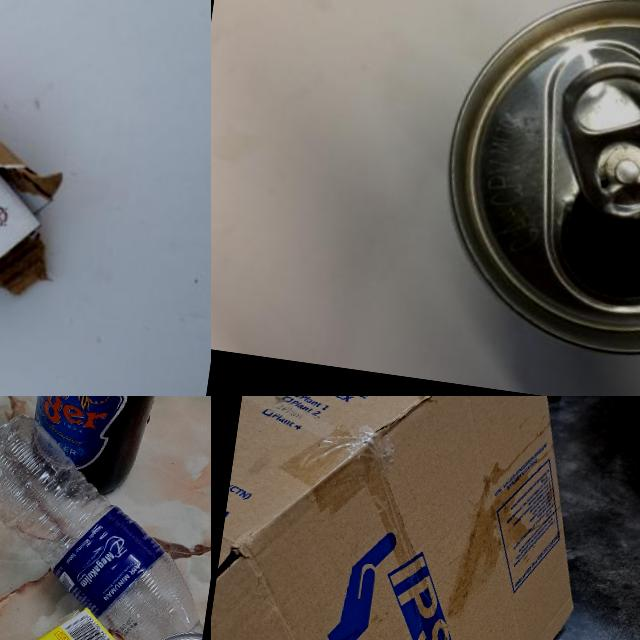aba de lata: (544, 55, 640, 230)
garrafa de vidro: (23, 396, 185, 504)
garrafa plástica: (0, 409, 211, 640)
lata: (422, 0, 640, 380)
papelão: (211, 396, 611, 640), (0, 22, 82, 358)
